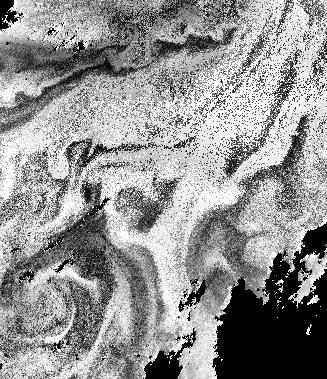CE: (15, 269, 85, 348)
